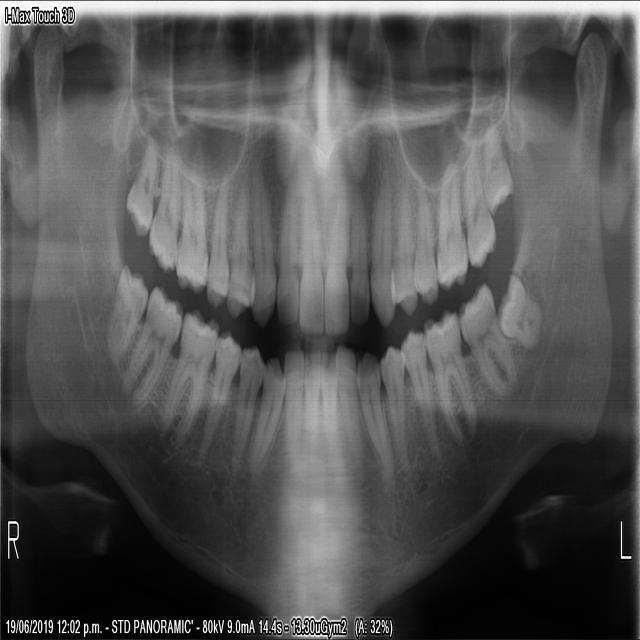LCD: (352, 340, 394, 484)
LCU: (367, 162, 396, 337)
LID: (333, 334, 367, 475), (318, 344, 340, 457)
LIU: (320, 174, 350, 339), (346, 174, 371, 332)
LMD: (421, 294, 480, 457), (457, 273, 517, 411), (493, 262, 545, 355)
LMU: (432, 147, 472, 293), (460, 134, 499, 274), (478, 111, 516, 217)
LPMD: (397, 322, 441, 463), (377, 336, 411, 482)
LPMU: (385, 161, 417, 319), (410, 171, 439, 312)
RCD: (240, 348, 289, 484)
RCU: (247, 146, 277, 332)
RID: (299, 341, 326, 469), (280, 341, 306, 471)
RIU: (295, 161, 324, 337), (274, 157, 298, 328)
RMD: (152, 300, 219, 456), (112, 275, 184, 420), (96, 254, 149, 374)
RMU: (171, 137, 209, 298), (143, 125, 180, 278), (118, 126, 160, 246)
RPMD: (190, 324, 243, 474), (227, 336, 268, 482)
RPMU: (222, 153, 255, 322), (202, 167, 231, 312)
